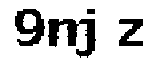9: (12, 6, 46, 53)
j: (78, 6, 104, 60)
n: (47, 14, 78, 49)
z: (116, 18, 146, 52)
